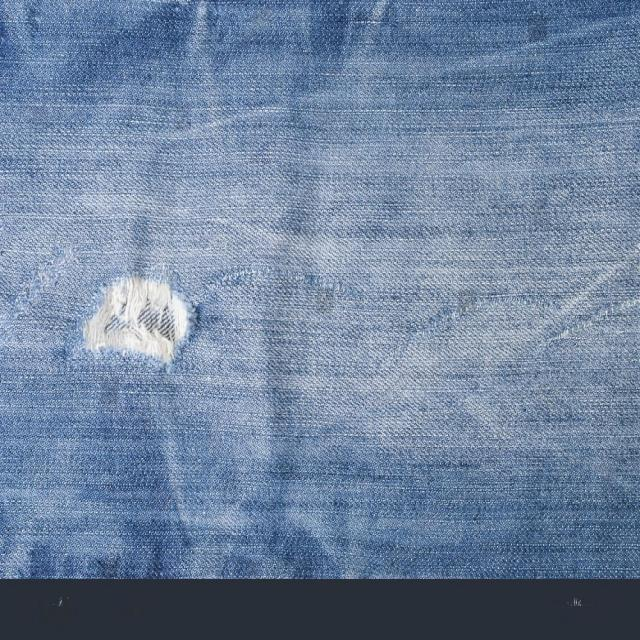Hole: (83, 276, 194, 362)
